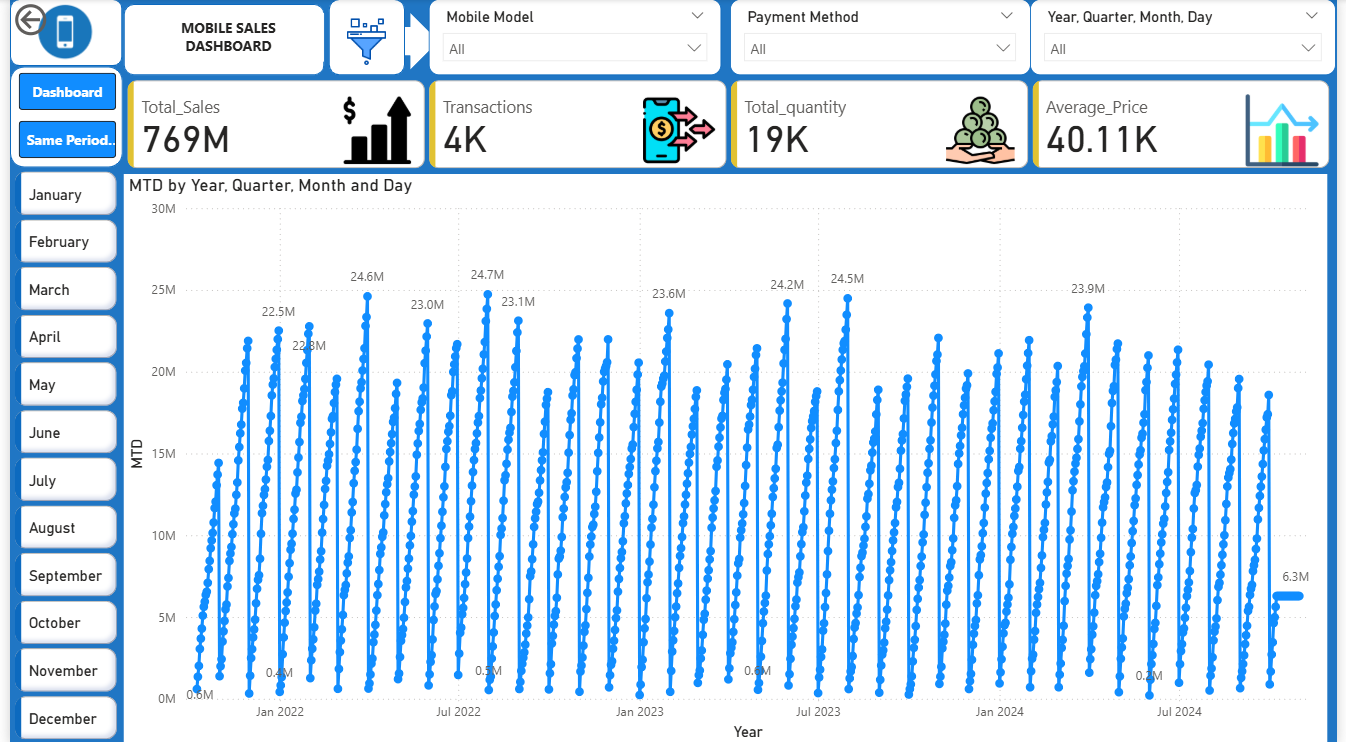

What the dashboard file says about the page in this screenshot:
{"tool":"powerbi","page":{"name":"MTD Report","canvas":[1280,720],"ordinal":1},"visuals":[{"type":"shape","box":[345,13.8,68.8,55],"z":0},{"type":"shape","box":[0,0,108.8,65],"z":1000},{"type":"image","box":[8.8,0,92.5,65],"z":2000},{"type":"shape","box":[0,65,108.8,97.5],"z":3000},{"type":"cardVisual","fields":{"Data":["Sales_data.Total_Sales","Sales_data.Transactions","Sales_data.Total_quantity","Sales_data.Average_Price"]},"box":[108.8,73.8,1171.2,95],"z":4000},{"type":"slicer","fields":{"Values":["Sales_data.Mobile Model"]},"box":[403.8,0,282.5,73.8],"z":5000},{"type":"slicer","fields":{"Values":["Sales_data.Payment Method"]},"box":[695,0,290,73.8],"z":6000},{"type":"slicer","fields":{"Values":["Custom_Calender.Date.Variation.Date Hierarchy.Year","Custom_Calender.Date.Variation.Date Hierarchy.Quarter","Custom_Calender.Date.Variation.Date Hierarchy.Month","Custom_Calender.Date.Variation.Date Hierarchy.Day"]},"box":[985,0,295,73.8],"z":7000},{"type":"shape","box":[307.5,0,73.8,73.8],"z":8000},{"type":"image","box":[316.2,8.8,56.2,65],"z":9000},{"type":"shape","box":[110,5,193.8,68.8],"z":10000},{"type":"textbox","box":[118.8,13.8,185,47.5],"z":11000},{"type":"actionButton","box":[0,0,100,40],"z":12000},{"type":"lineChart","fields":{"Y":["Sales_data.MTD"],"Category":["Custom_Calender.Date.Variation.Date Hierarchy.Year","Custom_Calender.Date.Variation.Date Hierarchy.Quarter","Custom_Calender.Date.Variation.Date Hierarchy.Month","Custom_Calender.Date.Variation.Date Hierarchy.Day"]},"box":[109.8,168.9,1161.8,551.3],"z":13000},{"type":"advancedSlicerVisual","fields":{"Values":["Query1.Date.Variation.Date Hierarchy.Month"]},"box":[0,161.7,108.6,558.6],"z":14000},{"type":"pageNavigator","box":[8.4,71.2,94.1,83.2],"z":15000}]}

Visuals, with their boxes in screenshot pixels (x1, y1, x2, y2), scaled from the page's 1280x720 canvas onto the 1346x742 screenshot:
shape: crop(363, 14, 435, 71)
shape: crop(0, 0, 114, 67)
image: crop(9, 0, 107, 67)
shape: crop(0, 67, 114, 167)
cardVisual - Sales_data.Total_Sales x Sales_data.Transactions: crop(114, 76, 1345, 174)
slicer - Sales_data.Mobile Model: crop(425, 0, 722, 76)
slicer - Sales_data.Payment Method: crop(731, 0, 1036, 76)
slicer - Custom_Calender.Date.Variation.Date Hierarchy.Year x Custom_Calender.Date.Variation.Date Hierarchy.Quarter: crop(1036, 0, 1345, 76)
shape: crop(323, 0, 401, 76)
image: crop(333, 9, 392, 76)
shape: crop(116, 5, 319, 76)
textbox: crop(125, 14, 319, 63)
actionButton: crop(0, 0, 105, 41)
lineChart - Sales_data.MTD x Custom_Calender.Date.Variation.Date Hierarchy.Year: crop(115, 174, 1337, 741)
advancedSlicerVisual - Query1.Date.Variation.Date Hierarchy.Month: crop(0, 167, 114, 741)
pageNavigator: crop(9, 73, 108, 159)
